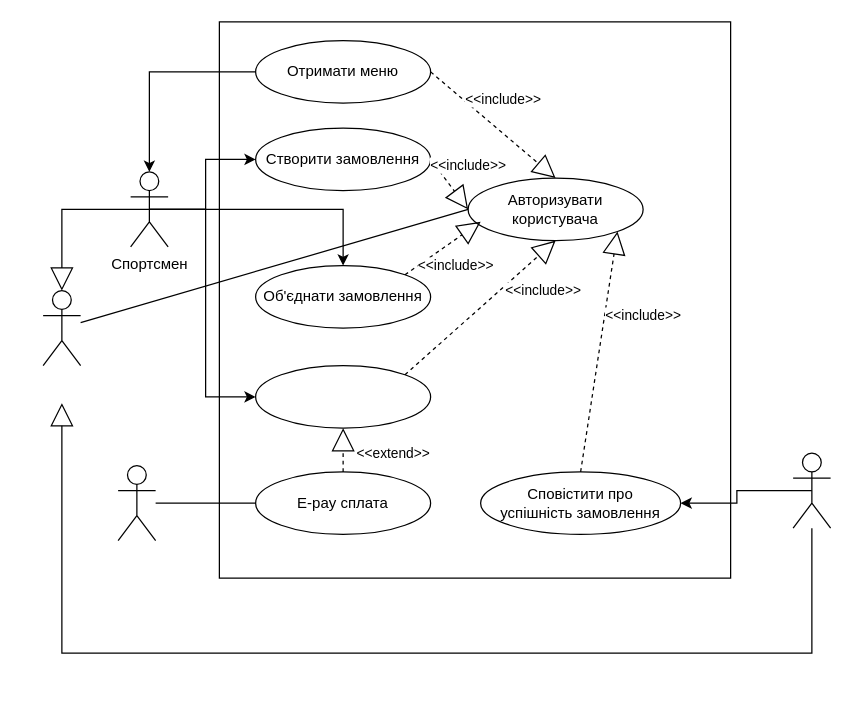
The diagram is 866 pixels wide and 709 high, and some of its shapes have lost their labels. The centre of each missing label's shape, as x and y in pixels:
"Користувач" goes at (61,327).
"Оператор" goes at (811,490).
"Сервіс E-pay" goes at (136,502).
"Сплатити рахунок" goes at (342,396).
